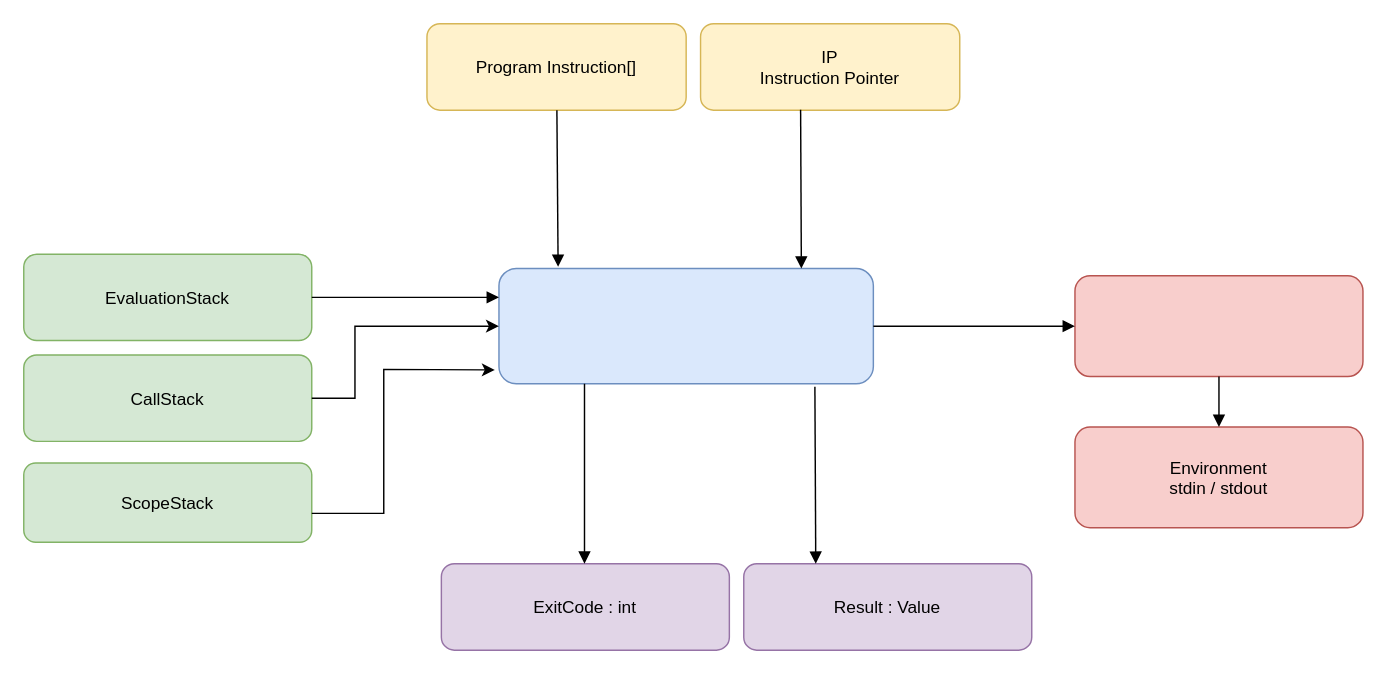
This 1387x674 diagram has some shape labels left out. The shapes that lost their labels are listed below. From the top down, each one's centre as x and y in pixels, then its label:
pixel 685 325: Процессор виртуальной машины fetch / decode / execute
pixel 1218 325: BuiltinFunctions
